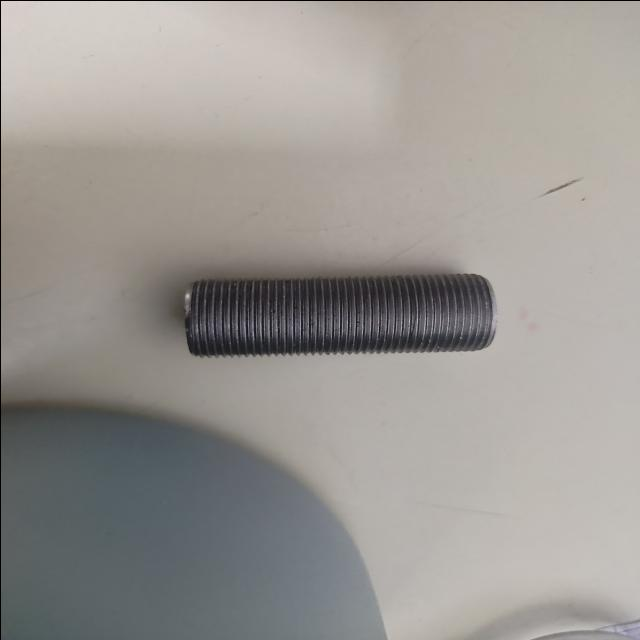Normal: (184, 272, 496, 358)
